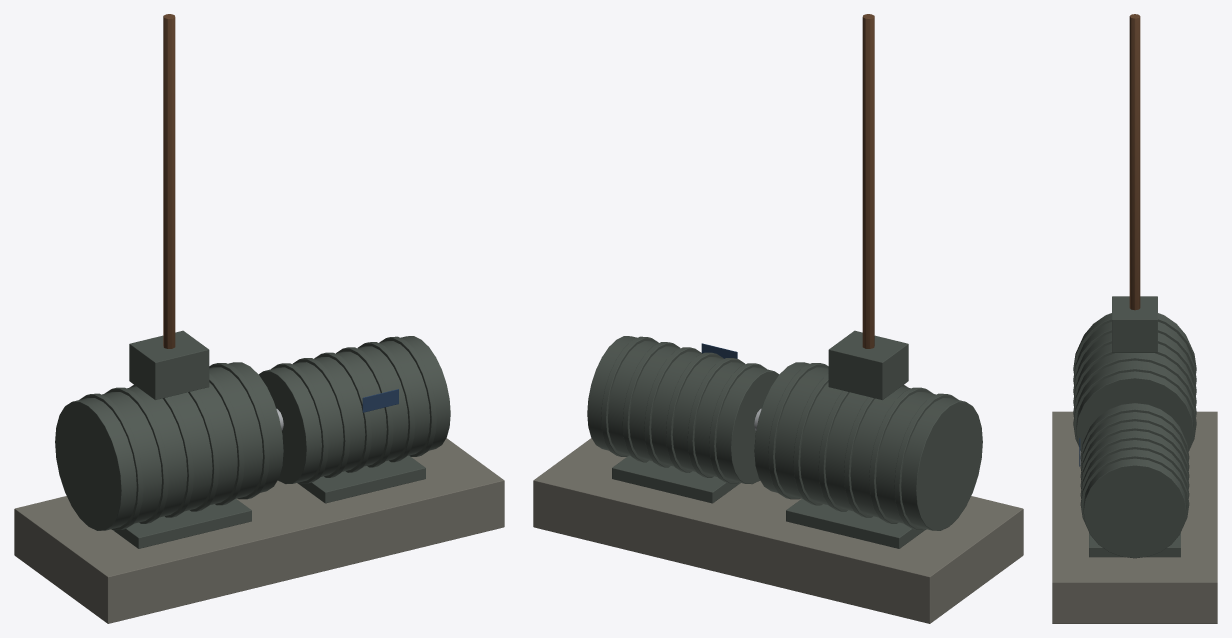
Rendered from PROP_MotorGenerator_Set.glb.
3 views of the same model, side by side, from view 1: azimuth 30°, elevation 25°; view 2: azimuth 150°, elevation 25°; view 3: azimuth 270°, elevation 25° (orthographic). The views are drawn at different scales.
Parts seen in each view (by area): view 1: PROP_MotorGenerator_Set_Mesh; view 2: PROP_MotorGenerator_Set_Mesh; view 3: PROP_MotorGenerator_Set_Mesh.
Part boxes in pixels (x1,y1,x2,y2): PROP_MotorGenerator_Set_Mesh: (14,14,504,623); PROP_MotorGenerator_Set_Mesh: (533,14,1023,623); PROP_MotorGenerator_Set_Mesh: (1052,14,1217,623).
Size of what is drawn, in the model's own units: 2.2 by 2.9 by 0.9.
